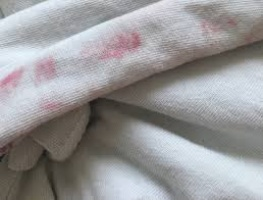lipstick: (81, 39, 143, 59), (202, 21, 248, 36), (31, 59, 57, 83), (1, 66, 23, 90), (36, 103, 73, 114)
